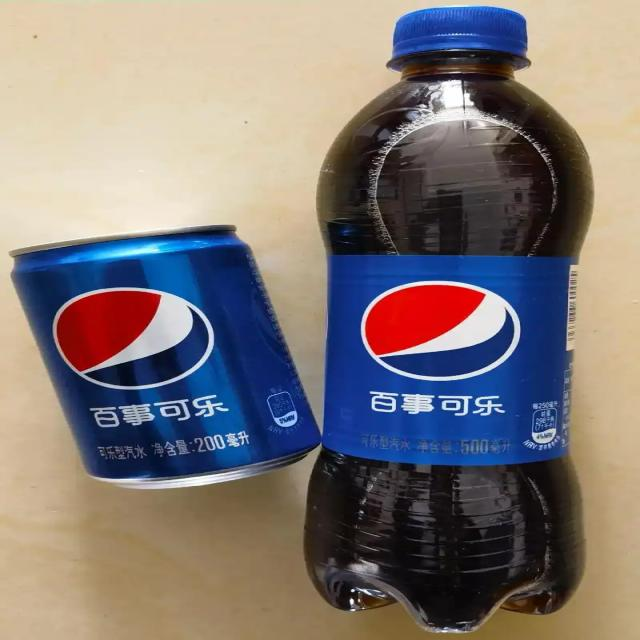bottle: (304, 5, 588, 634)
can: (8, 221, 328, 492)
